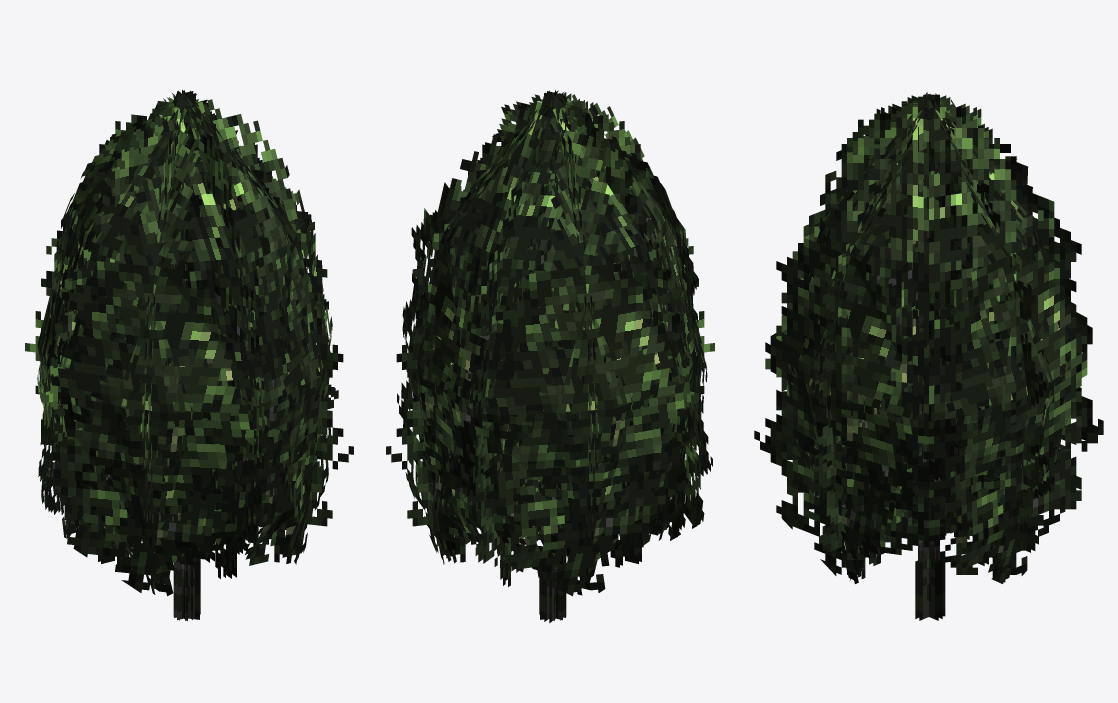
The model's file is bush04_summer.glb.
3 renders of one model, left to right at view 1: azimuth 30°, elevation 25°; view 2: azimuth 150°, elevation 25°; view 3: azimuth 270°, elevation 25°, orthographic.
Parts seen in each view (by area): view 1: bush04; view 2: bush04; view 3: bush04.
Part boxes in pixels (x1=…): bush04: x1=25, y1=90, x2=353, y2=621; bush04: x1=386, y1=90, x2=714, y2=623; bush04: x1=754, y1=92, x2=1103, y2=620.
Size of the model in its own units: 0.9 by 1.5 by 0.9.
Materials: 1 (1 with a texture image).
